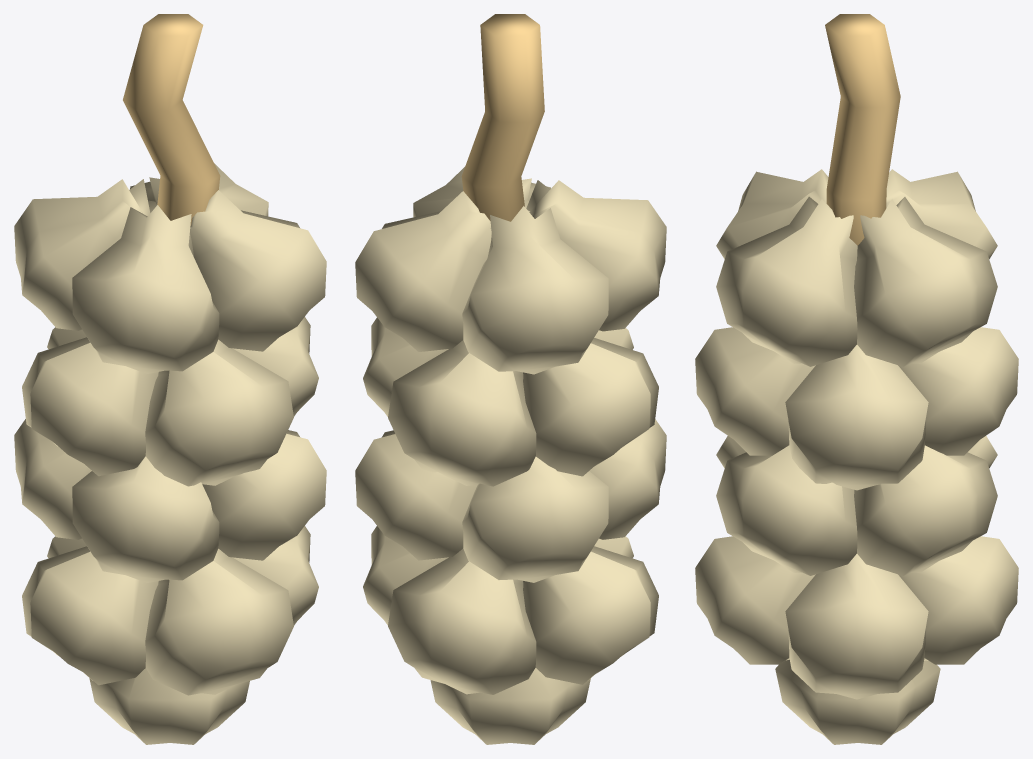
Rendered from Garlic.fbx.
3 renders of one model, left to right at view 1: azimuth 30°, elevation 25°; view 2: azimuth 150°, elevation 25°; view 3: azimuth 270°, elevation 25°, orthographic.
Parts seen in each view (by area): view 1: garlic briad; view 2: garlic briad; view 3: garlic briad.
Part boxes in pixels (x1,y1,x2,y2): garlic briad: [14, 14, 326, 744]; garlic briad: [355, 14, 666, 744]; garlic briad: [695, 14, 1018, 744].
Size of the model in its own units: 44.42 by 107 by 44.42.
